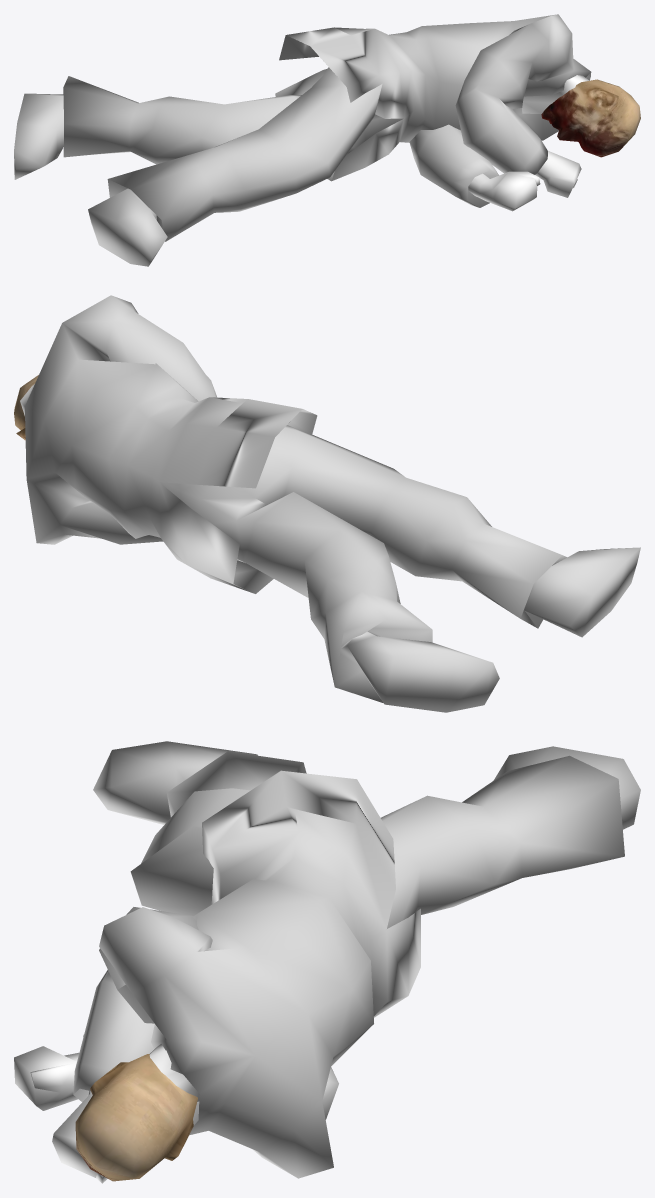
The model's file is KM_CITYONFIRE_CORPSE_CITIZEN_02.glb.
3 views of the same model, one above another, from view 1: azimuth 30°, elevation 25°; view 2: azimuth 150°, elevation 25°; view 3: azimuth 270°, elevation 25° (orthographic). The views are drawn at different scales.
Visible parts, largest first — view 1: Mesh; view 2: Mesh; view 3: Mesh.
Part boxes in pixels (bbox=[...]): Mesh: bbox=[14, 14, 640, 266]; Mesh: bbox=[14, 295, 640, 712]; Mesh: bbox=[14, 741, 640, 1183].
Size of the model in its own units: 1.69 by 0.5323 by 1.11.
3 materials, 1 textured.
